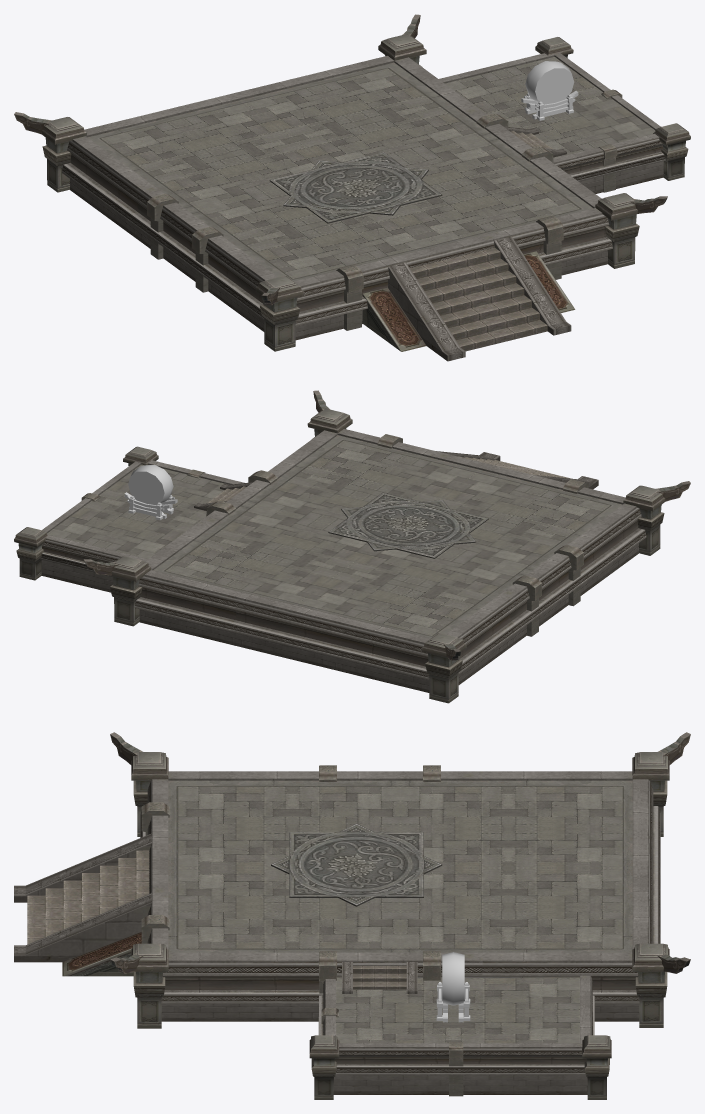
Rendered from s7_unioncity_jianzhu_bieshu_paibian_02.FBX.
The picture shows the model from 3 angles, top to bottom: view 1: azimuth 30°, elevation 25°; view 2: azimuth 150°, elevation 25°; view 3: azimuth 270°, elevation 25°; orthographic projection. The views are drawn at different scales.
Visible parts, largest first — view 1: s7_unioncity_jianzhu_pingtai_01, s7_unioncity_jianzhu_louti_01, s7_unioncity_jianzhu_pingtai_02, s7_unioncity_jianzhu_gu_01; view 2: s7_unioncity_jianzhu_pingtai_01, s7_unioncity_jianzhu_pingtai_02, s7_unioncity_jianzhu_gu_01, s7_unioncity_jianzhu_louti_01; view 3: s7_unioncity_jianzhu_pingtai_01, s7_unioncity_jianzhu_pingtai_02, s7_unioncity_jianzhu_louti_01, s7_unioncity_jianzhu_gu_01.
Part boxes in pixels (x1,y1,x2,y2): s7_unioncity_jianzhu_pingtai_01: (14, 14, 667, 351); s7_unioncity_jianzhu_louti_01: (362, 236, 575, 361); s7_unioncity_jianzhu_pingtai_02: (439, 37, 690, 193); s7_unioncity_jianzhu_gu_01: (521, 61, 578, 120); s7_unioncity_jianzhu_pingtai_01: (83, 390, 690, 703); s7_unioncity_jianzhu_pingtai_02: (14, 446, 252, 592); s7_unioncity_jianzhu_gu_01: (124, 465, 177, 520); s7_unioncity_jianzhu_louti_01: (436, 451, 598, 489); s7_unioncity_jianzhu_pingtai_01: (110, 732, 690, 1028); s7_unioncity_jianzhu_pingtai_02: (309, 962, 611, 1099); s7_unioncity_jianzhu_louti_01: (14, 833, 151, 976); s7_unioncity_jianzhu_gu_01: (436, 952, 470, 1022).
Size of the model in its own units: 33.26 by 5.5 by 32.8.
